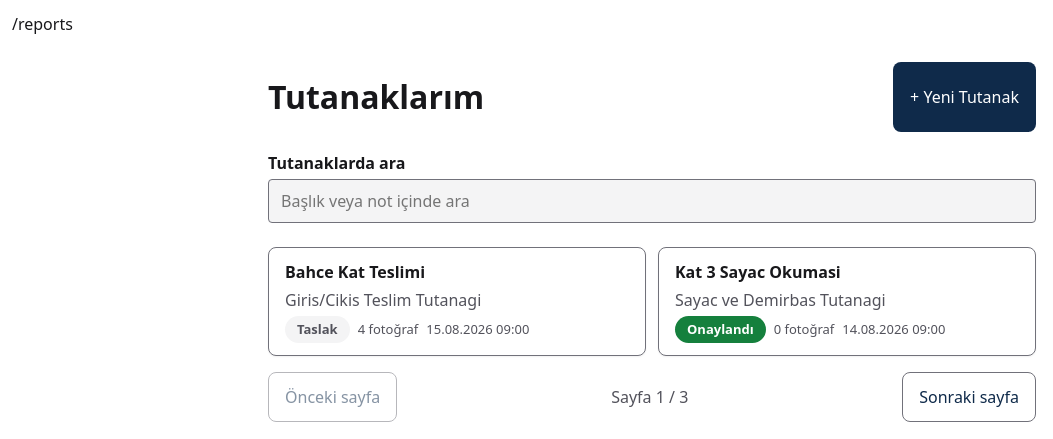
Scenario: ReportListPage › sayfalama (kriter 5) › sonraki sayfa secilince yeni istek yapilir
Click the button "Sonraki sayfa" at (969, 397), box [902, 372, 1036, 422]
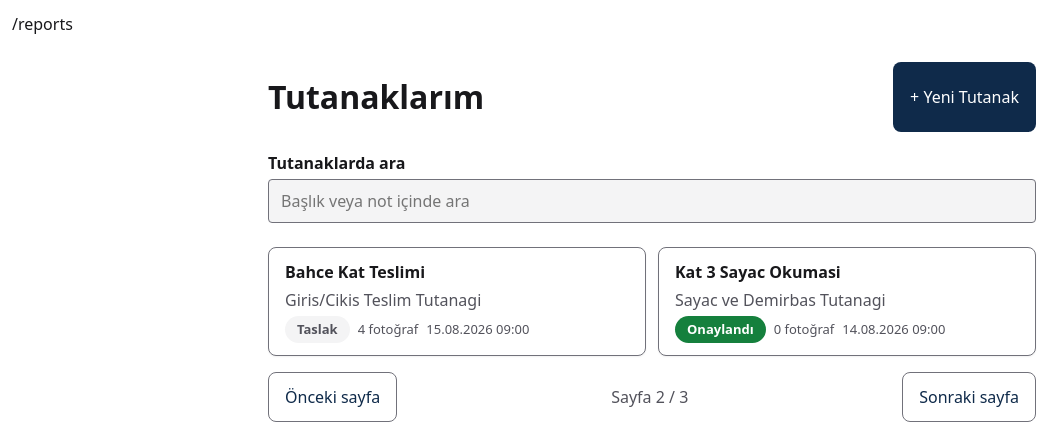
Expected: the text "Sayfa 2 / 3" is shown, [611, 385, 688, 409]
